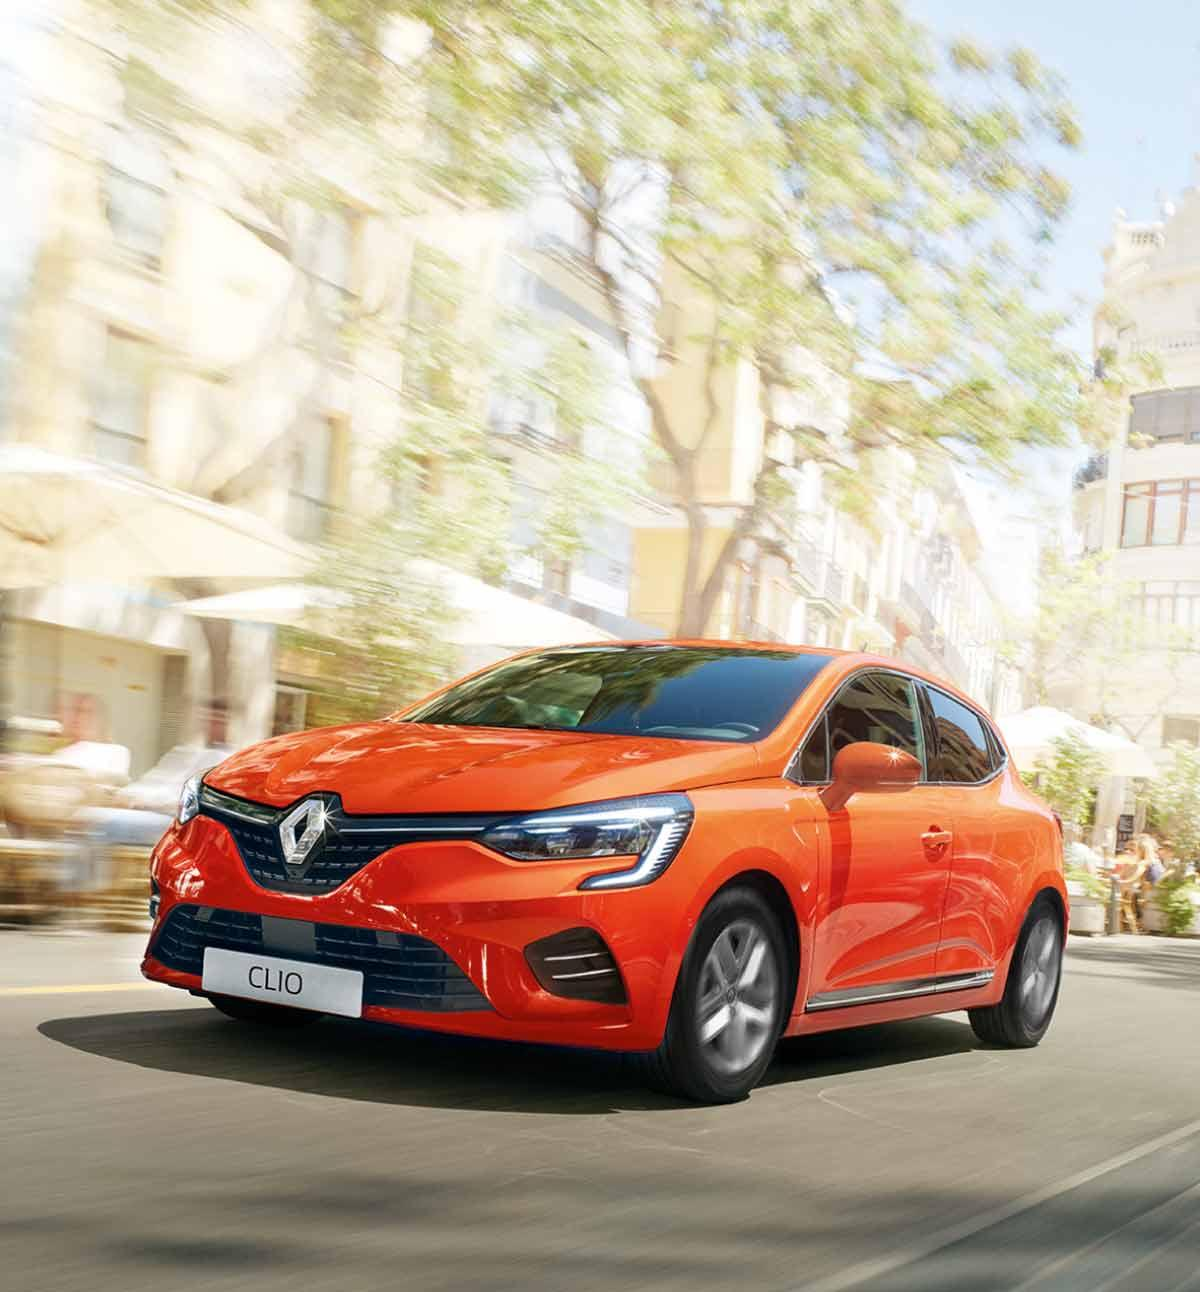Renault: (267, 784, 341, 883)
